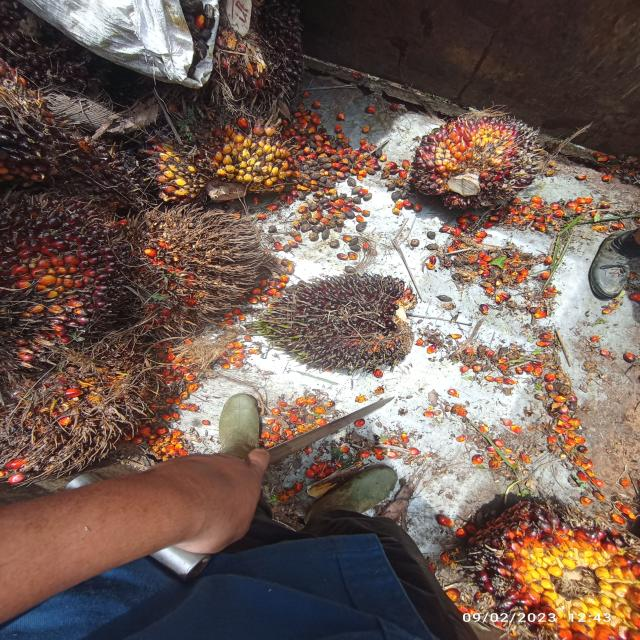fraksi 00: (257, 252, 425, 378)
fraksi 1: (420, 489, 634, 640), (0, 179, 136, 343), (400, 108, 549, 214)
fraksi 4: (2, 327, 156, 472), (118, 184, 239, 324)
